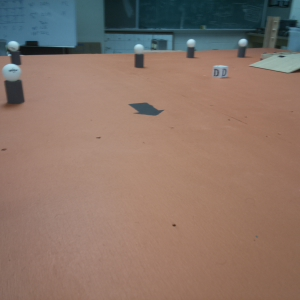blockD: (213, 64, 228, 80)
corner: (267, 16, 275, 48)
obstacle: (3, 63, 24, 104), (7, 39, 21, 66), (133, 43, 144, 68), (187, 38, 196, 60), (238, 39, 247, 57)
slope: (253, 53, 300, 78)
start: (126, 101, 163, 118)
